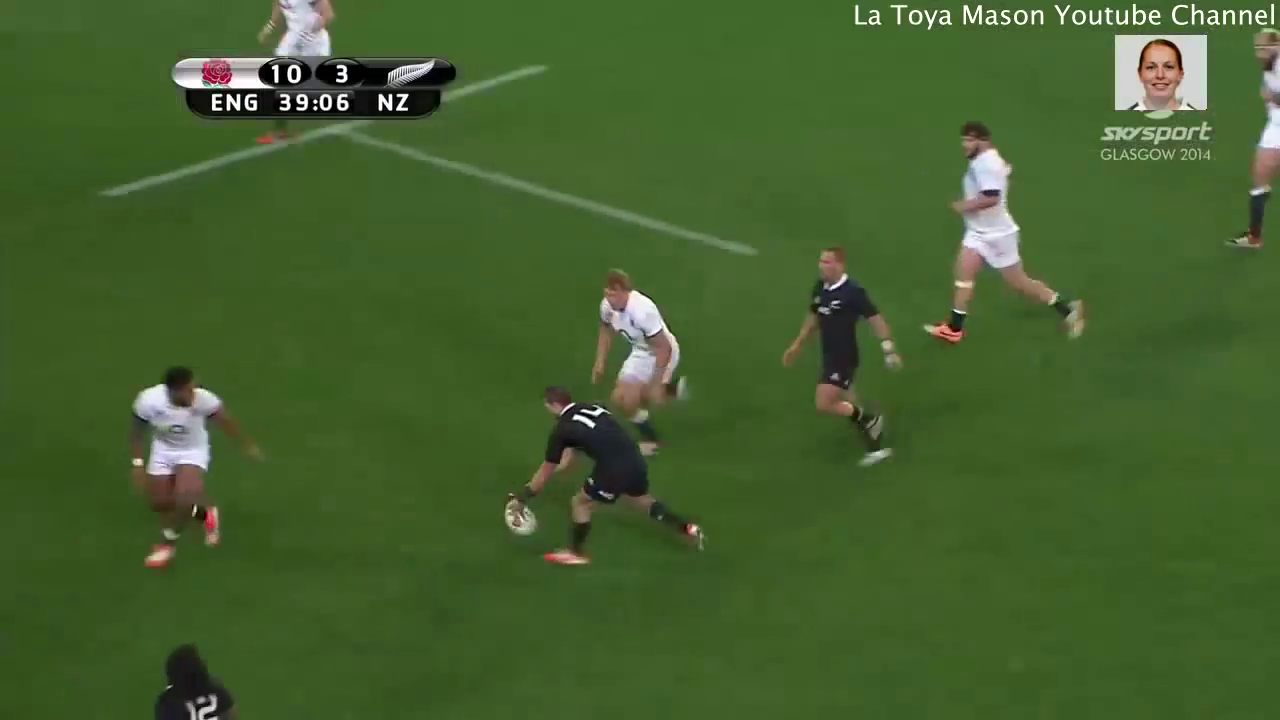ball: (493, 482, 553, 554)
player: (923, 116, 1101, 373), (492, 376, 722, 572), (104, 347, 269, 578), (773, 236, 912, 469), (574, 259, 705, 468), (238, 1, 346, 151), (1217, 12, 1280, 254), (145, 638, 254, 720)
